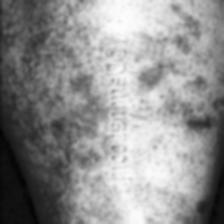Non-Cancerous Skin Condition: (31, 46, 104, 164), (136, 31, 215, 137), (136, 68, 160, 86)
